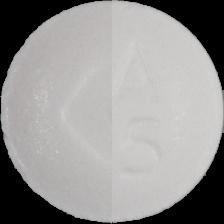42254-220: (0, 0, 224, 224)
